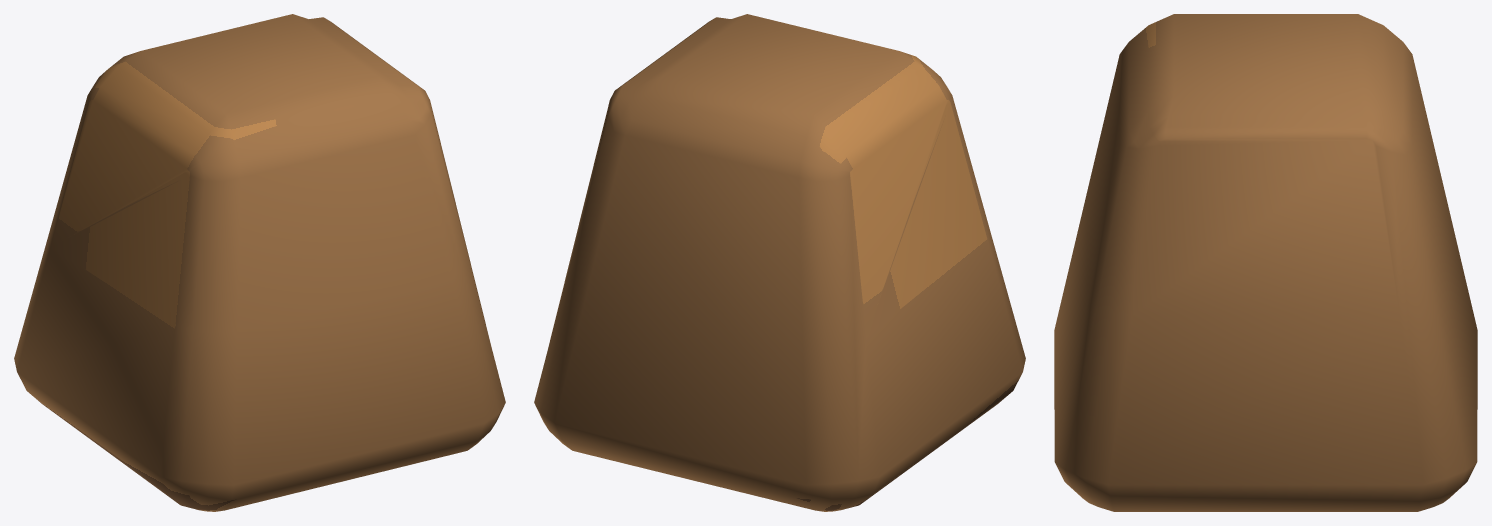
File: pile of dirt.fbx
3 renders of one model, left to right at view 1: azimuth 30°, elevation 25°; view 2: azimuth 150°, elevation 25°; view 3: azimuth 270°, elevation 25°, orthographic. The views are drawn at different scales.
Parts seen in each view (by area): view 1: Cube.014; view 2: Cube.014; view 3: Cube.014.
Boxes of the visible parts, box(x1,y1,x2,y2) form: Cube.014: box(14, 14, 505, 511); Cube.014: box(534, 14, 1025, 511); Cube.014: box(1054, 14, 1477, 511).
Bounding box in the file's own units: 94.22 × 96.01 × 94.32.
